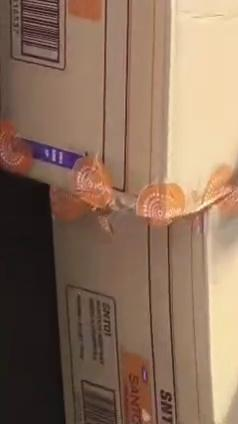box: (0, 0, 237, 203), (54, 207, 237, 423)
